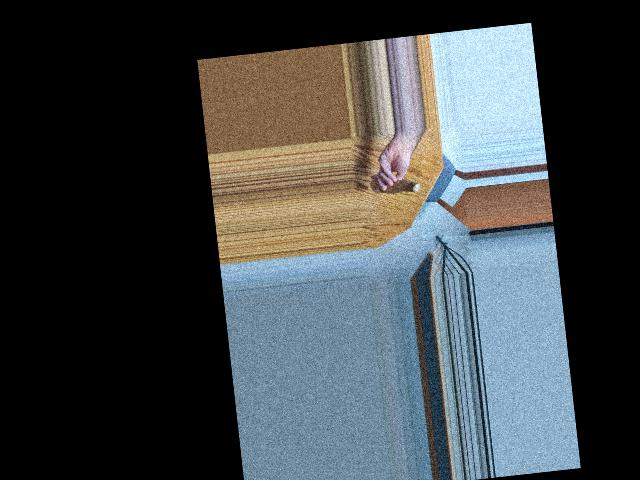sweet_potato: (370, 175, 425, 196)
